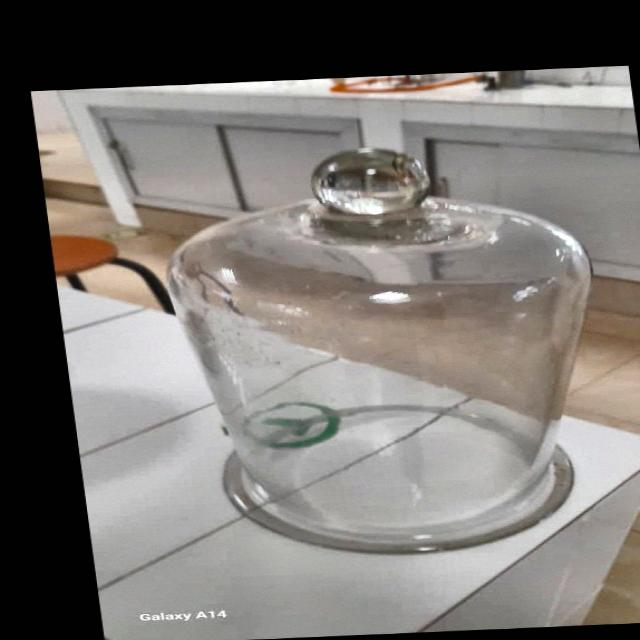Gas Bottle: (131, 138, 615, 566)
